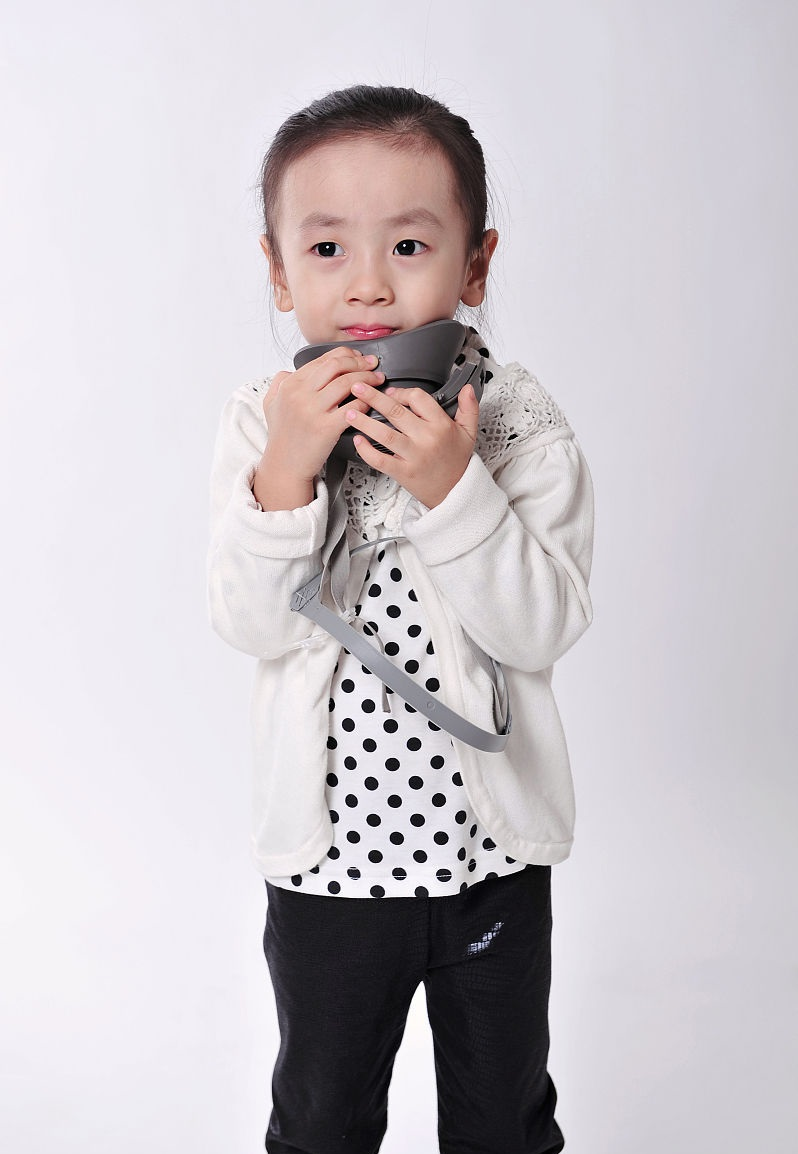face: (282, 122, 464, 384)
